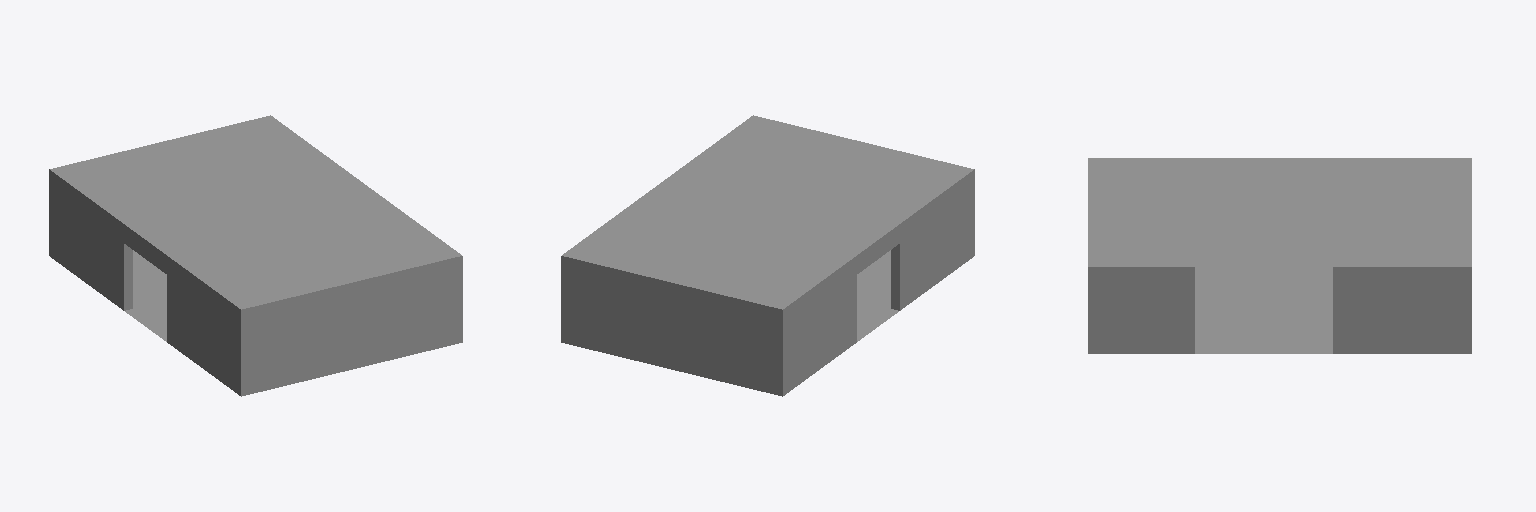
File: RoomBottom.obj
The picture shows the model from 3 angles: view 1: azimuth 30°, elevation 25°; view 2: azimuth 150°, elevation 25°; view 3: azimuth 270°, elevation 25°; orthographic projection.
Parts seen in each view (by area): view 1: Cube.003_Cube.002; view 2: Cube.003_Cube.002; view 3: Cube.003_Cube.002.
Boxes of the visible parts, <box> form: Cube.003_Cube.002: <box>49,115,462,396</box>; Cube.003_Cube.002: <box>561,115,974,396</box>; Cube.003_Cube.002: <box>1088,158,1471,353</box>.
Bounding box in the file's own units: 24 × 9 × 36.